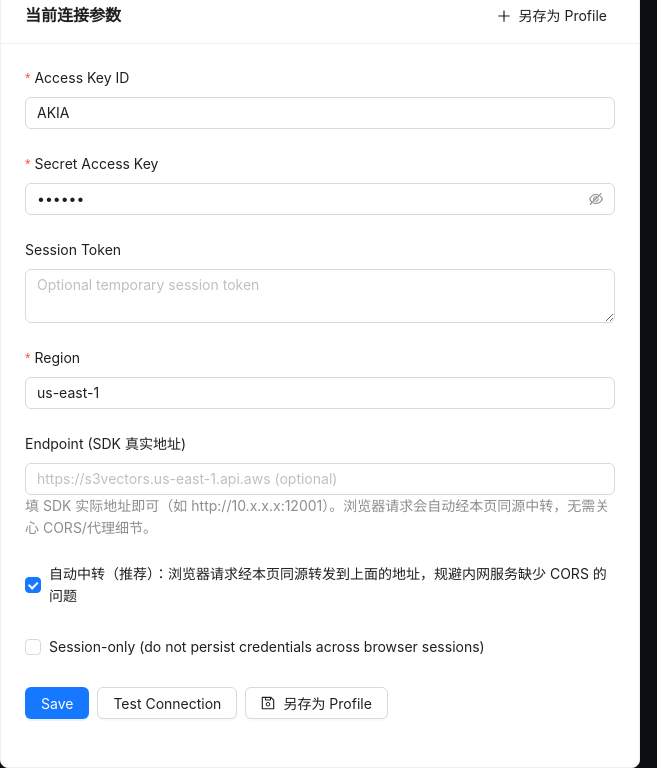
Settings page › shows success message with bucket count on connection test
This screenshot has width=657, height=768.
(page scrolled)
Click the button "Test Connection": (167,703) [97,687,237,719]
(page scrolled)
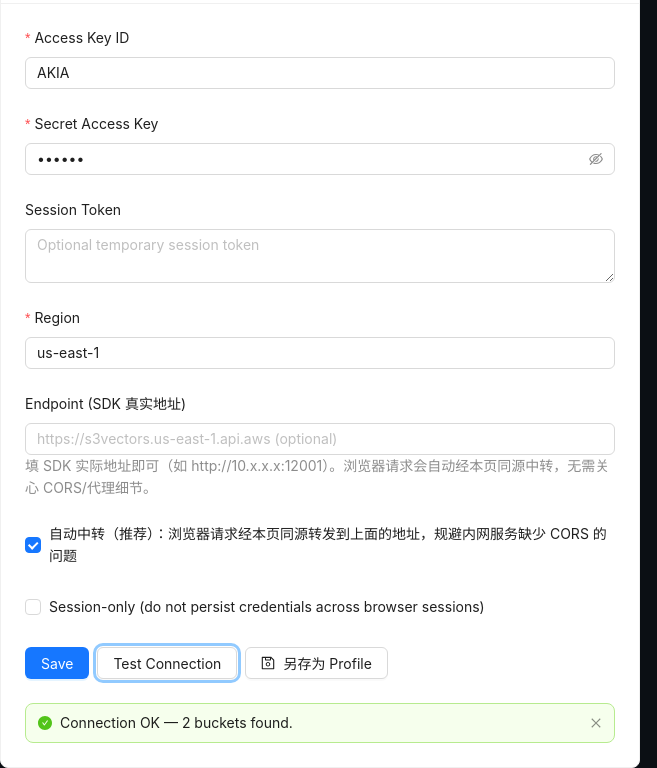
Check: the text "Connection OK — 2 buckets found." is shown, box [60,714,293,731]
